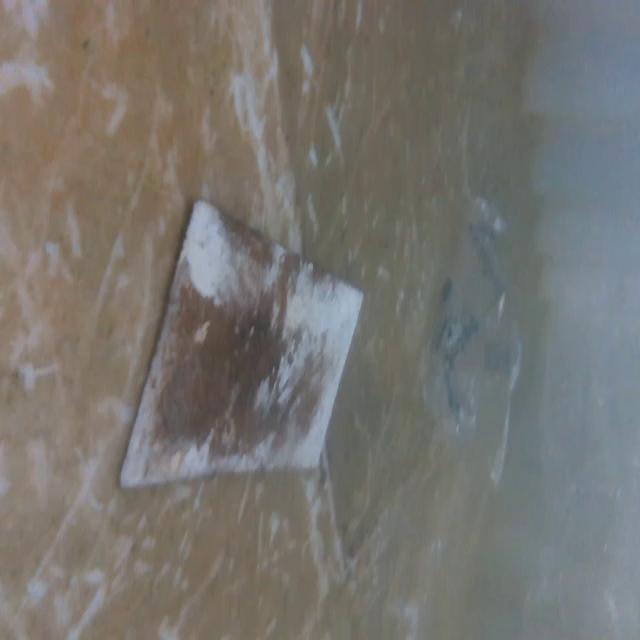metal: (119, 198, 375, 507)
plastic bags: (409, 190, 540, 475)
